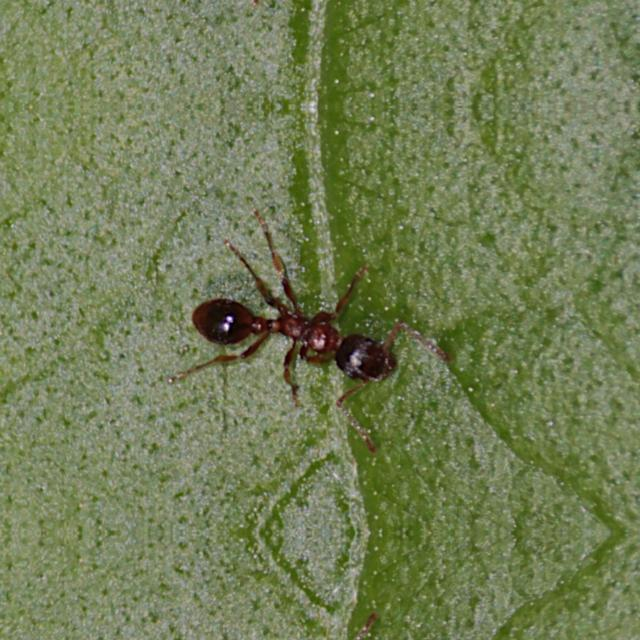Myrmica: (164, 232, 450, 434)
